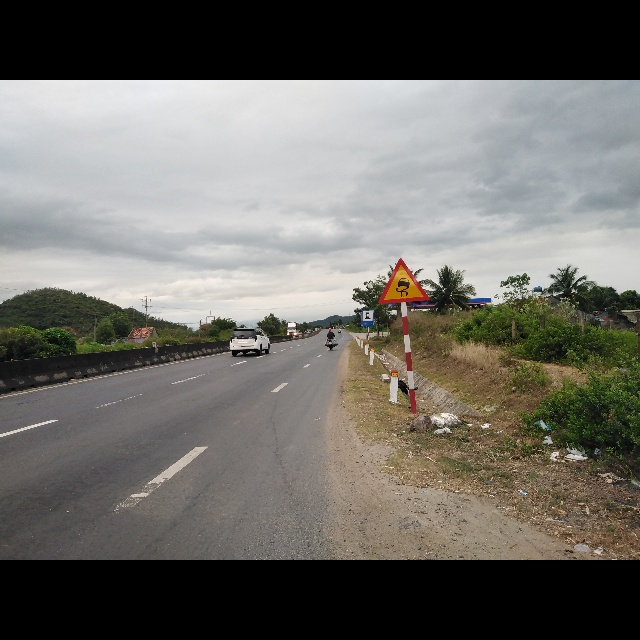Đường trơn trượt: (376, 257, 429, 308)
